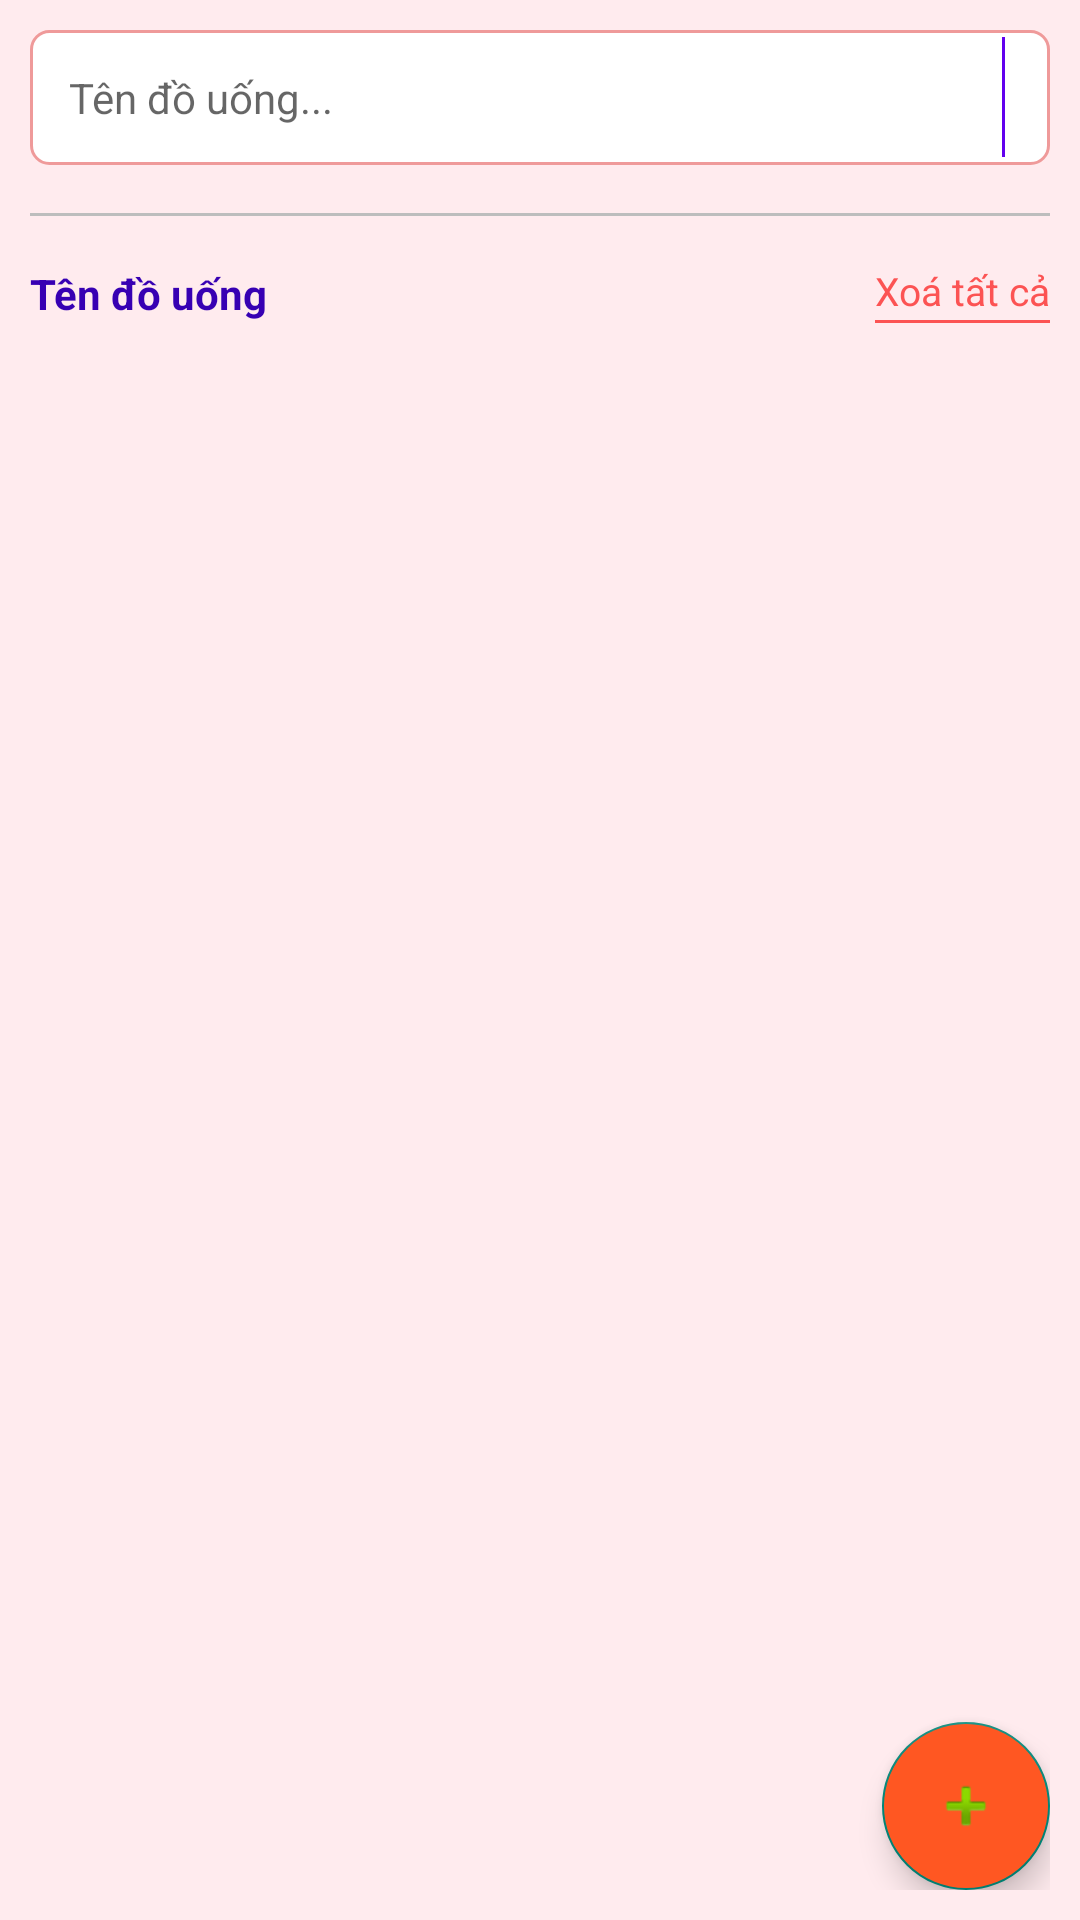

Screen size 1080×1920. Icon name, then its box in pixels as (x1, y1, x2, y2):
add: (882, 1722, 1050, 1890)
